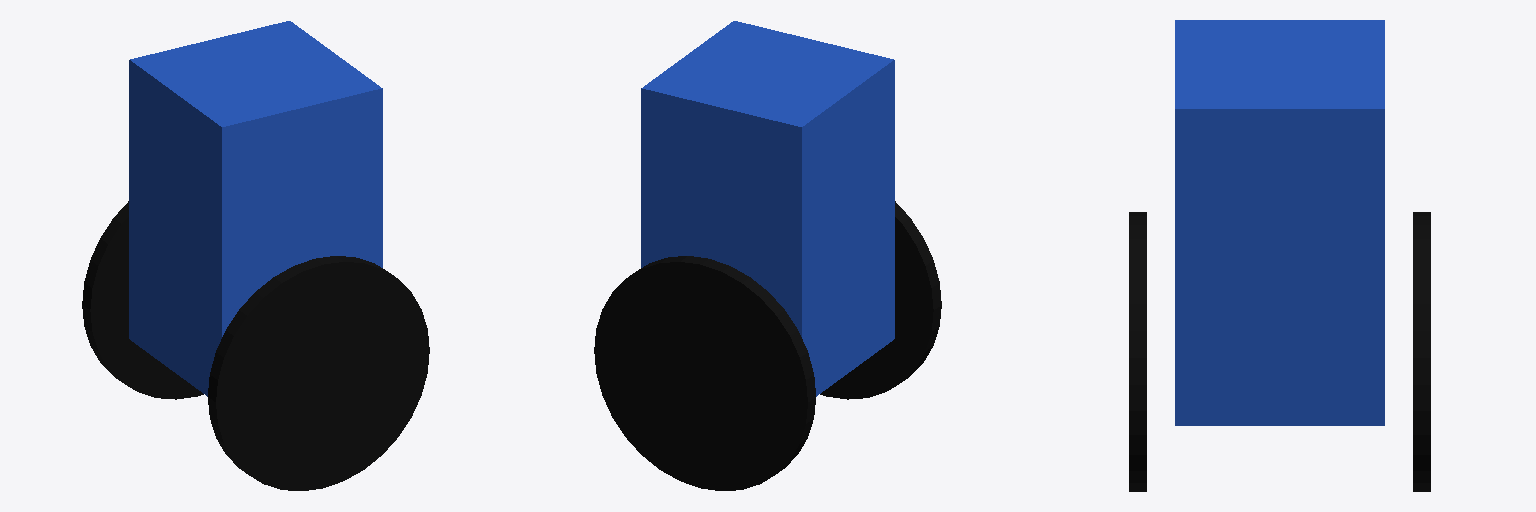
The robot description file, URDF, robot "balance_bot":
<?xml version="1.0"?>
<!--
  Two-wheeled self-balancing robot.
  Frame convention: +x forward, +y left, +z up. Wheel axle is along y.
  Body box: 0.10 (x) x 0.20 (y) x 0.15 (z) m, 1.0 kg, CoM 5 cm above the axle.
  Wheels: radius 0.05 m, width 0.02 m, 0.1 kg each.
  Both wheel joints use axis +y, so the same positive velocity on both = drive forward.
  Spawn the base ~0.11 m above the ground (axle is 0.05 m below the base centre).
-->
<robot name="balance_bot">

  <material name="body_blue"><color rgba="0.2 0.4 0.8 1.0"/></material>
  <material name="wheel_black"><color rgba="0.1 0.1 0.1 1.0"/></material>

  <!-- Body -->
  <link name="base_link">
    <visual>
      <geometry><box size="0.45 0.45 0.75"/></geometry>
      <material name="body_blue"/>
    </visual>
    <collision>
      <geometry><box size="0.45 0.45 0.75"/></geometry>
    </collision>
    <inertial>
      <origin xyz="0 0 0" rpy="0 0 0"/>
      <!-- @TODO: DOES NOT COUNT FOR PERSON'S WEIGHT -->
      <mass value="55.0"/>
      <!-- solid box: I = m/12 * (a^2 + b^2) -->
      <inertia ixx="3.506" iyy="3.506" izz="1.856" ixy="0" ixz="0" iyz="0"/>
    </inertial>
  </link>

  <!-- Left wheel -->
  <link name="left_wheel">
    <visual>
      <origin xyz="0 0 0" rpy="1.5708 0 0"/>
      <geometry><cylinder radius="0.3" length="0.04"/></geometry>
      <material name="wheel_black"/>
    </visual>
    <collision>
      <origin xyz="0 0 0" rpy="1.5708 0 0"/>
      <geometry><cylinder radius="0.3" length="0.04"/></geometry>
    </collision>
    <inertial>
      <origin xyz="0 0 0" rpy="0 0 0"/>
      <mass value="5.0"/>
      <!-- spin axis is y: iyy = m r^2 / 2, ixx = izz = m (3 r^2 + w^2) / 12 -->
      <inertia ixx="0.113" iyy="0.225" izz="0.113" ixy="0" ixz="0" iyz="0"/>
    </inertial>
  </link>

  <joint name="left_wheel_joint" type="continuous">
    <parent link="base_link"/>
    <child link="left_wheel"/>
    <origin xyz="0 0.305 -0.305" rpy="0 0 0"/>
    <axis xyz="0 1 0"/>
    <dynamics damping="0.0" friction="0.0"/>
    <limit effort="1.0" velocity="50.0"/>
  </joint>

  <!-- Right wheel -->
  <link name="right_wheel">
    <visual>
      <origin xyz="0 0 0" rpy="1.5708 0 0"/>
      <geometry><cylinder radius="0.3" length="0.04"/></geometry>
      <material name="wheel_black"/>
    </visual>
    <collision>
      <origin xyz="0 0 0" rpy="1.5708 0 0"/>
      <geometry><cylinder radius="0.3" length="0.04"/></geometry>
    </collision>
    <inertial>
      <origin xyz="0 0 0" rpy="0 0 0"/>
      <mass value="5.0"/>
      <inertia ixx="0.113" iyy="0.225" izz="0.113" ixy="0" ixz="0" iyz="0"/>
    </inertial>
  </link>

  <joint name="right_wheel_joint" type="continuous">
    <parent link="base_link"/>
    <child link="right_wheel"/>
    <origin xyz="0 -0.305 -0.305" rpy="0 0 0"/>
    <axis xyz="0 1 0"/>
    <dynamics damping="0.0" friction="0.0"/>
    <limit effort="1.0" velocity="50.0"/>
  </joint>

</robot>

--- Facts derived from the render (not from the file) ---
The picture shows the robot from 3 angles, left to right: view 1: azimuth 30°, elevation 25°; view 2: azimuth 150°, elevation 25°; view 3: azimuth 270°, elevation 25°; orthographic projection.
Robot: balance_bot — 3 links, 2 joints (2 continuous); root link base_link; default pose: every joint at zero.
Visible links, largest first — view 1: base_link, right_wheel, left_wheel; view 2: base_link, left_wheel, right_wheel; view 3: base_link, left_wheel, right_wheel.
Link boxes in pixels (left/top/right/bottom): base_link: left=129, top=21, right=382, bottom=396; right_wheel: left=208, top=256, right=429, bottom=490; left_wheel: left=82, top=201, right=203, bottom=399; base_link: left=641, top=21, right=894, bottom=396; left_wheel: left=594, top=256, right=815, bottom=490; right_wheel: left=820, top=201, right=941, bottom=399; base_link: left=1175, top=20, right=1384, bottom=425; left_wheel: left=1413, top=212, right=1430, bottom=491; right_wheel: left=1129, top=212, right=1146, bottom=491.
Bounding box of the posed robot: 0.6 × 0.65 × 0.98 m (x, y, z).
Geometry: primitives only (box / cylinder / sphere), no mesh files.
